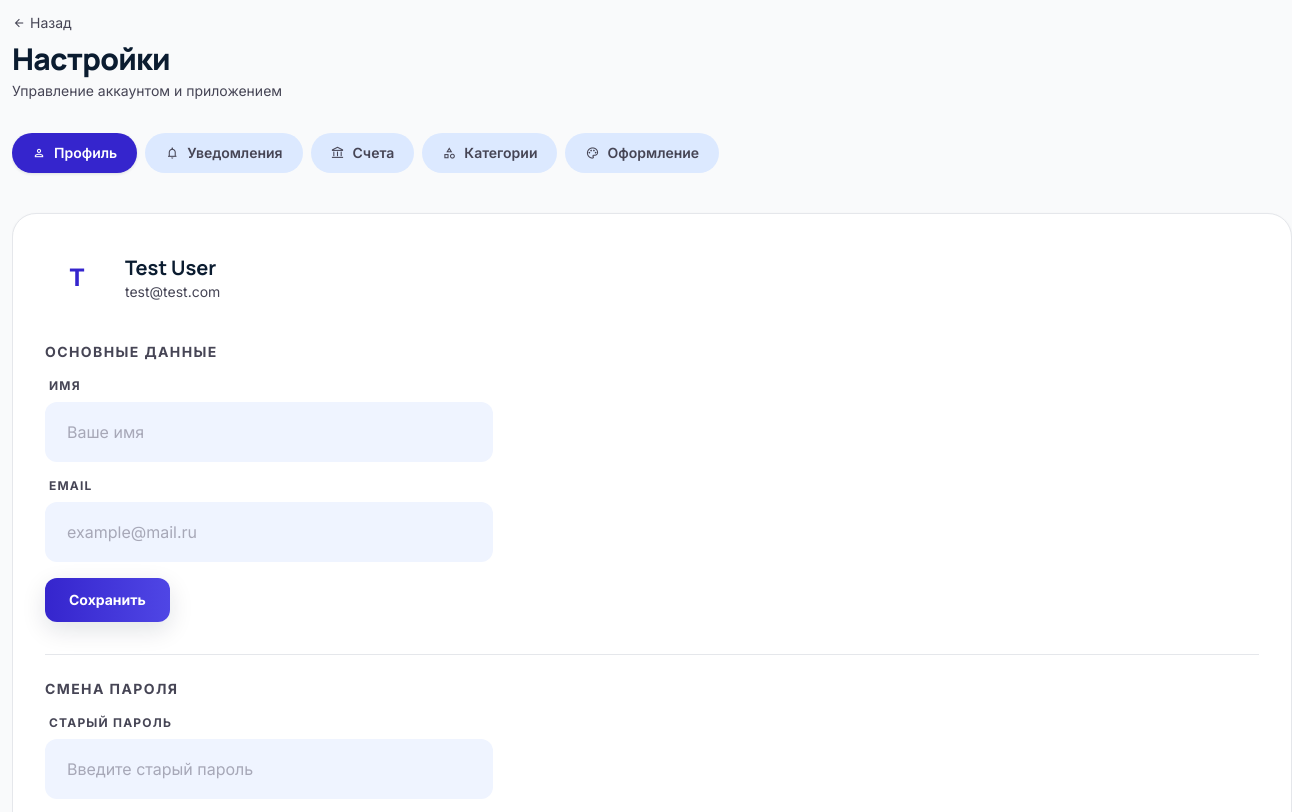
Test: Settings › switches to notifications tab
Check: the heading "Настройки" is shown, box [12, 38, 170, 79]
Click the button "Уведомления": point(224, 153) [145, 133, 302, 173]
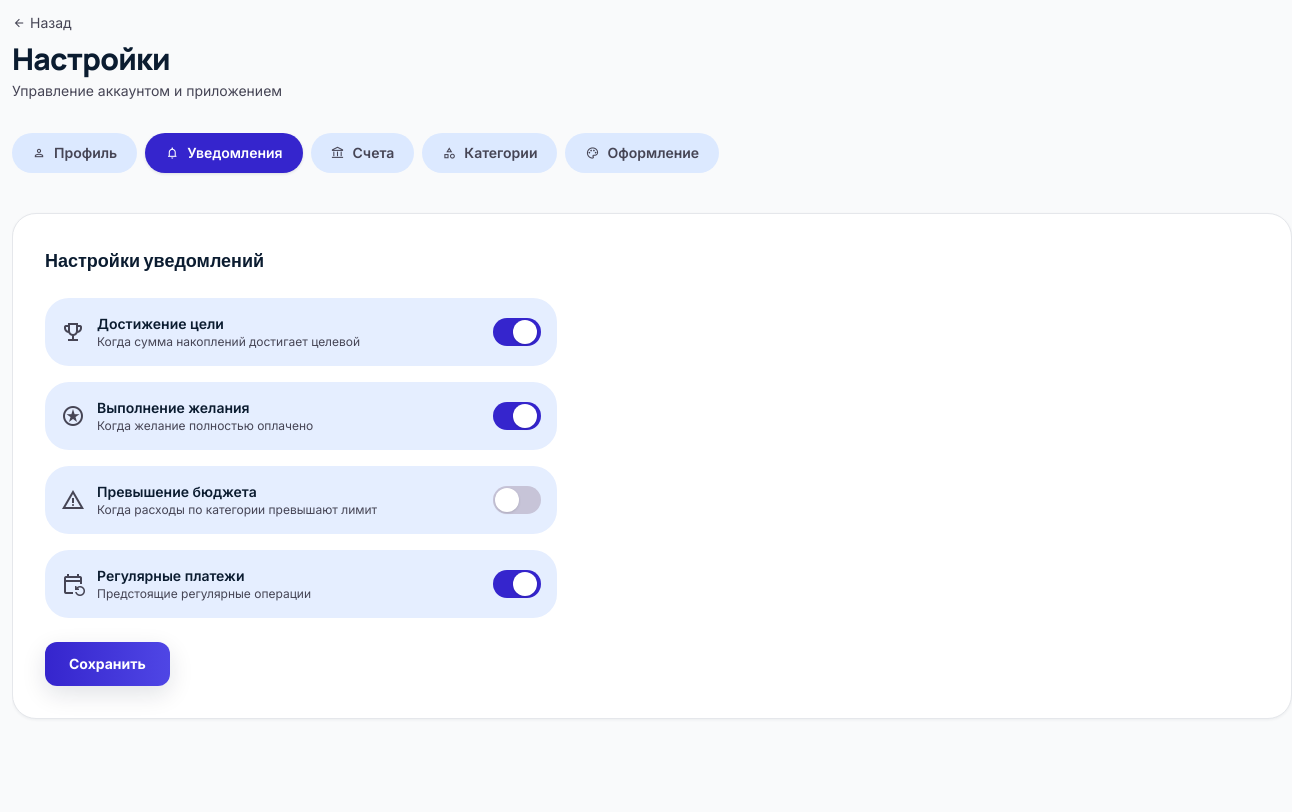
Check: the heading "Настройки уведомлений" is shown, box [45, 248, 264, 272]
